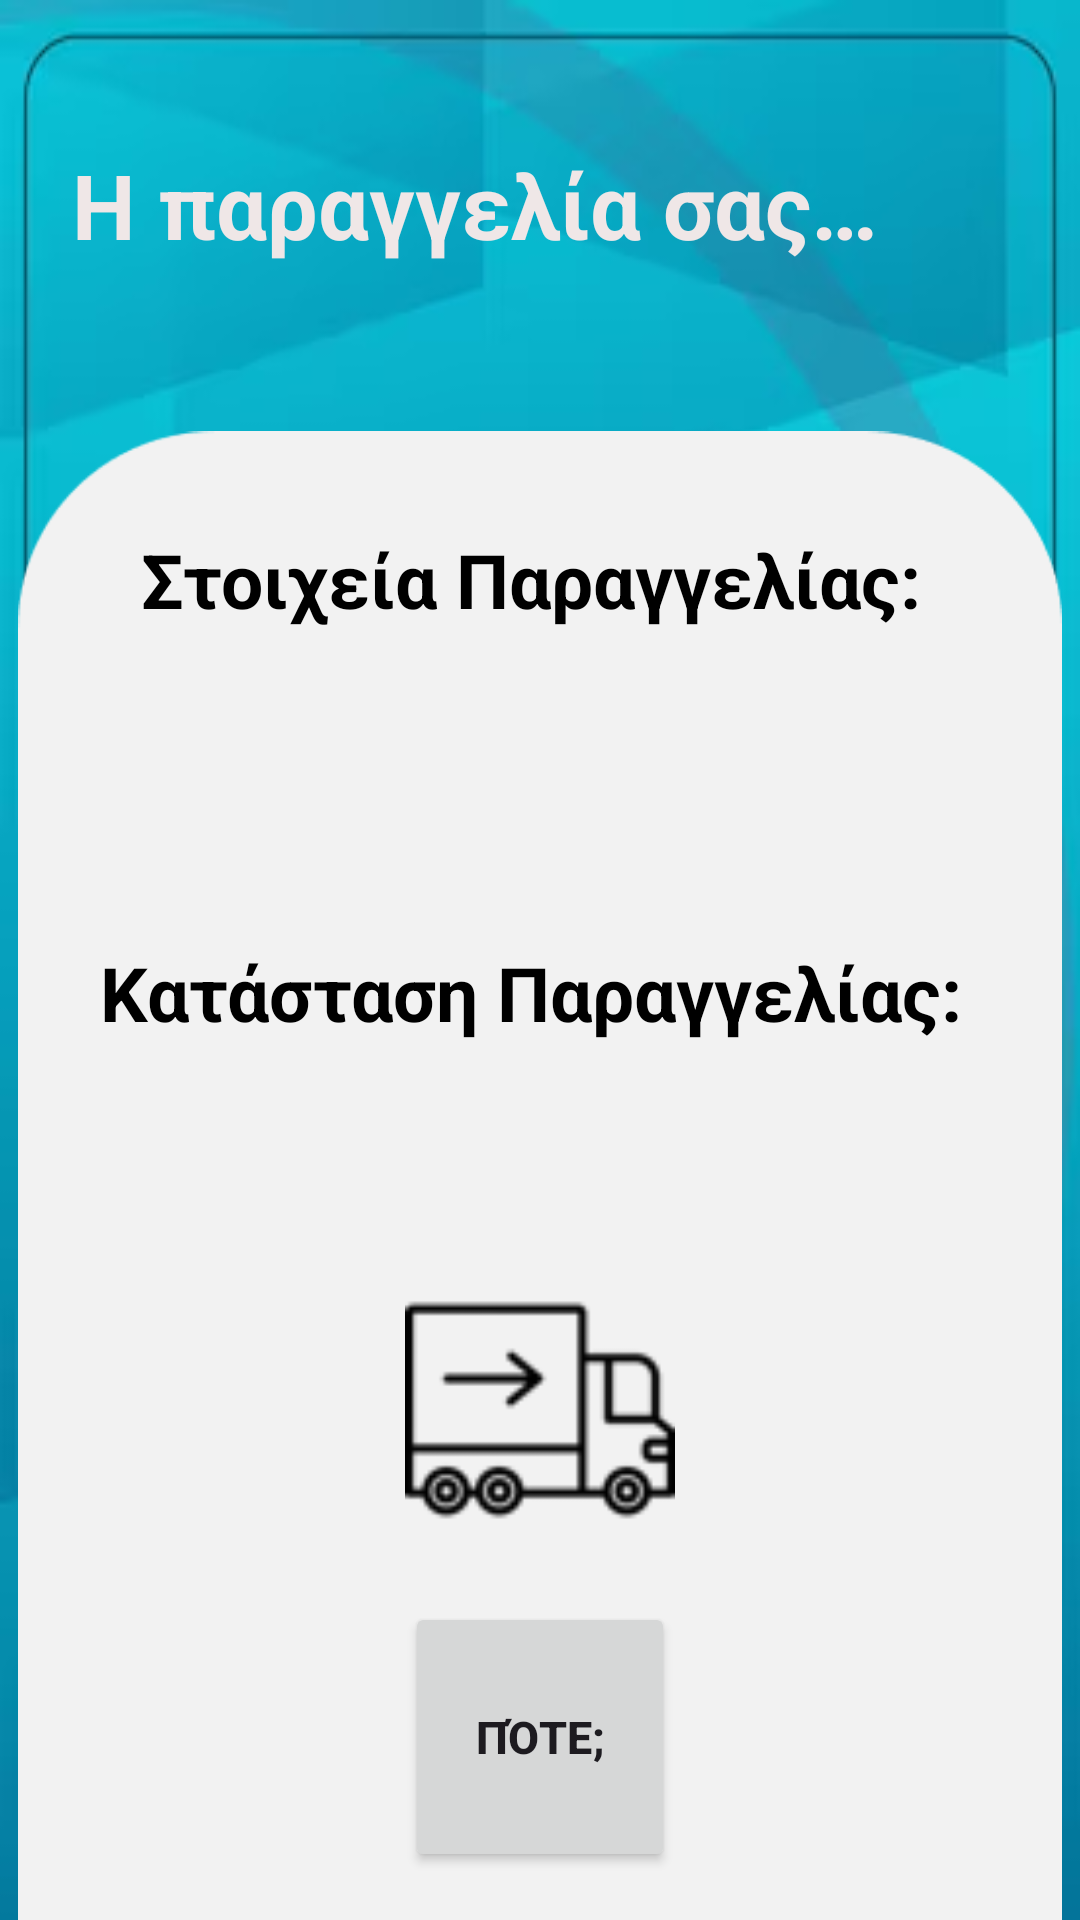

Icons on this 1080*1920 Android screen, each with its box as Rect(x1, y1, x2, y2):
fordelivery: Rect(405, 1301, 675, 1518)
